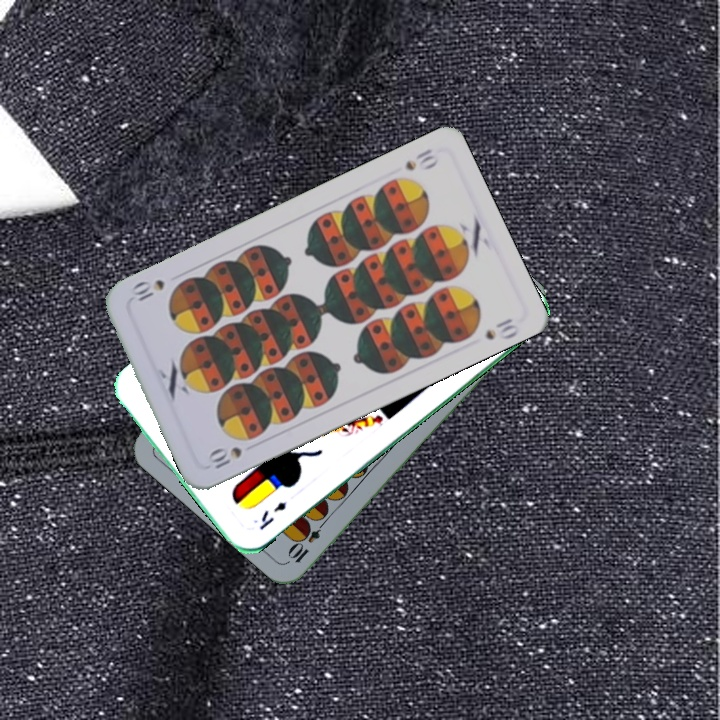E10: (286, 514, 330, 566)
EK: (255, 497, 289, 533)
S10: (203, 442, 245, 472), (401, 144, 442, 174)
